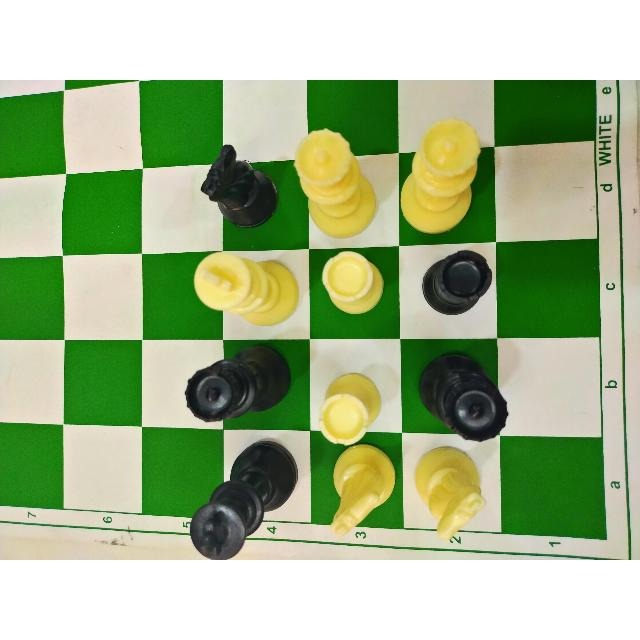black-king: (177, 438, 301, 559)
black-knight: (200, 142, 280, 229)
black-queen: (182, 341, 292, 424), (416, 352, 510, 444)
black-rook: (420, 249, 493, 317)
white-king: (191, 250, 300, 327)
white-knight: (323, 442, 398, 540), (413, 445, 486, 542)
white-queen: (400, 116, 484, 235), (292, 124, 377, 240)
white-rook: (317, 370, 383, 448), (319, 249, 386, 319)
